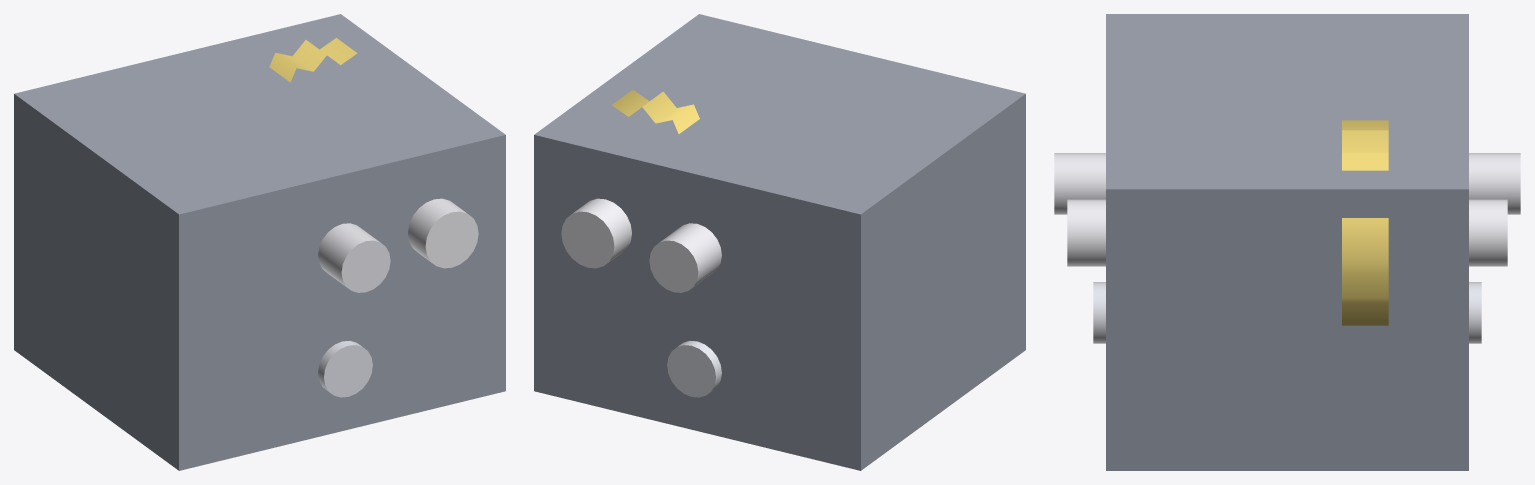
The model's file is gearbox.glb.
The picture shows the model from 3 angles, left to right: view 1: azimuth 30°, elevation 25°; view 2: azimuth 150°, elevation 25°; view 3: azimuth 270°, elevation 25°; orthographic projection. The views are drawn at different scales.
Parts seen in each view (by area): view 1: TransmissionCase, OutputShaft, InputShaft, Countershaft, DriveGear_1st; view 2: TransmissionCase, OutputShaft, InputShaft, Countershaft, DriveGear_1st; view 3: TransmissionCase, DriveGear_1st, InputShaft, OutputShaft, Countershaft.
Boxes of the visible parts, left/top/right/bottom form: TransmissionCase: left=14, top=14, right=505, bottom=470; OutputShaft: left=408, top=198, right=478, bottom=268; InputShaft: left=318, top=223, right=390, bottom=292; Countershaft: left=318, top=341, right=372, bottom=397; DriveGear_1st: left=269, top=38, right=357, bottom=82; TransmissionCase: left=534, top=14, right=1025, bottom=470; OutputShaft: left=561, top=198, right=631, bottom=268; InputShaft: left=649, top=223, right=721, bottom=292; Countershaft: left=667, top=341, right=721, bottom=397; DriveGear_1st: left=612, top=89, right=699, bottom=133; TransmissionCase: left=1106, top=14, right=1468, bottom=470; DriveGear_1st: left=1342, top=120, right=1388, bottom=325; InputShaft: left=1054, top=153, right=1520, bottom=214; OutputShaft: left=1067, top=199, right=1507, bottom=266; Countershaft: left=1093, top=282, right=1481, bottom=343.
Size of the model in its own units: 1.68 by 1.29 by 1.8.
